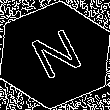N_SE: (23, 23, 87, 87)
